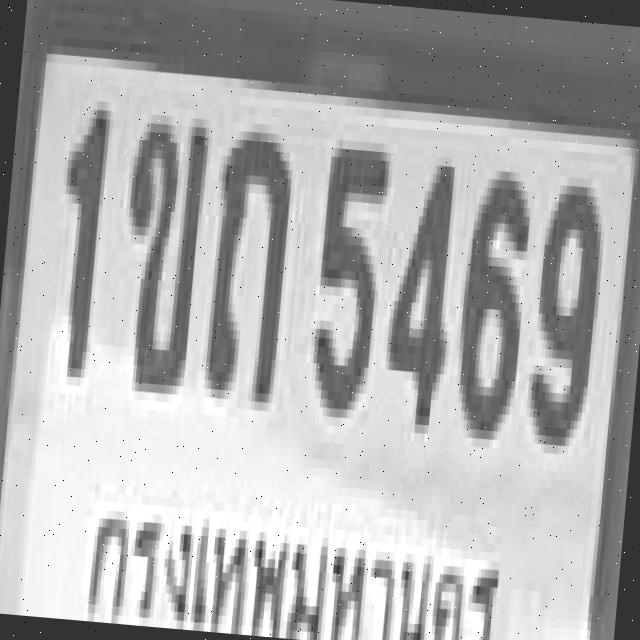1: (47, 94, 108, 364)
11KhorKhai: (111, 100, 208, 382)
31ThorThung: (200, 121, 292, 394)
4: (380, 145, 460, 426)
5: (306, 138, 388, 410)
6: (449, 156, 531, 428)
9: (524, 175, 602, 438)
Bangkok: (69, 481, 523, 640)
